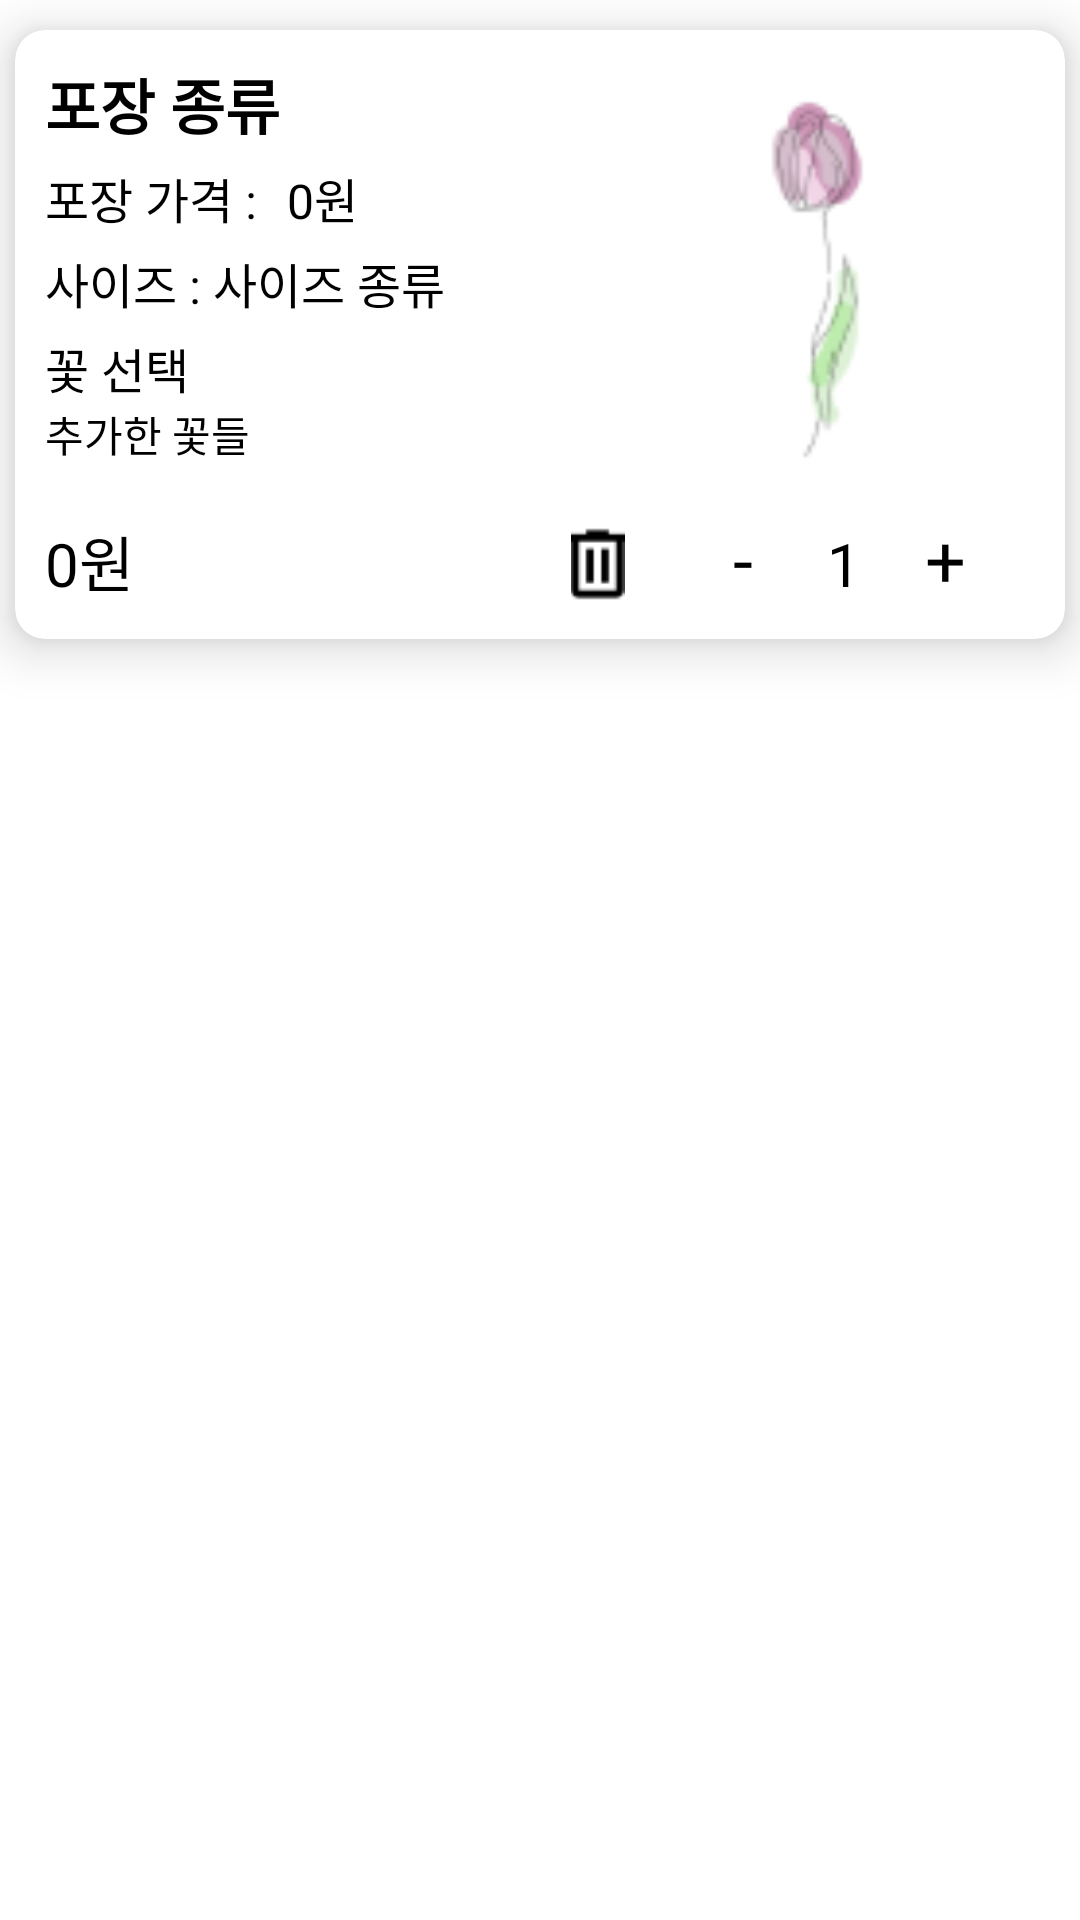

Where icons sit on this 1080×1920 app screen, as BBox(x1, y1, x2, y2):
flower: BBox(772, 102, 863, 457)
trash: BBox(571, 528, 625, 600)
